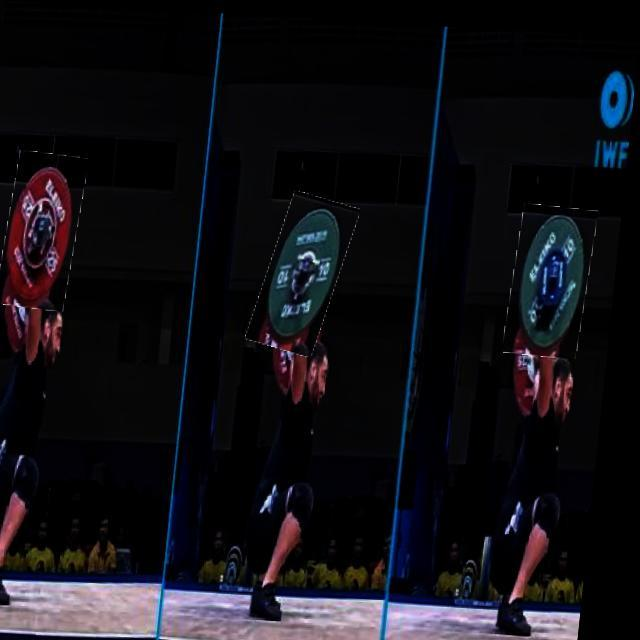barbell: (260, 189, 358, 353), (511, 198, 601, 352), (4, 152, 90, 311)
